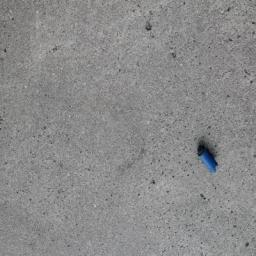FOD: (191, 142, 224, 176)
